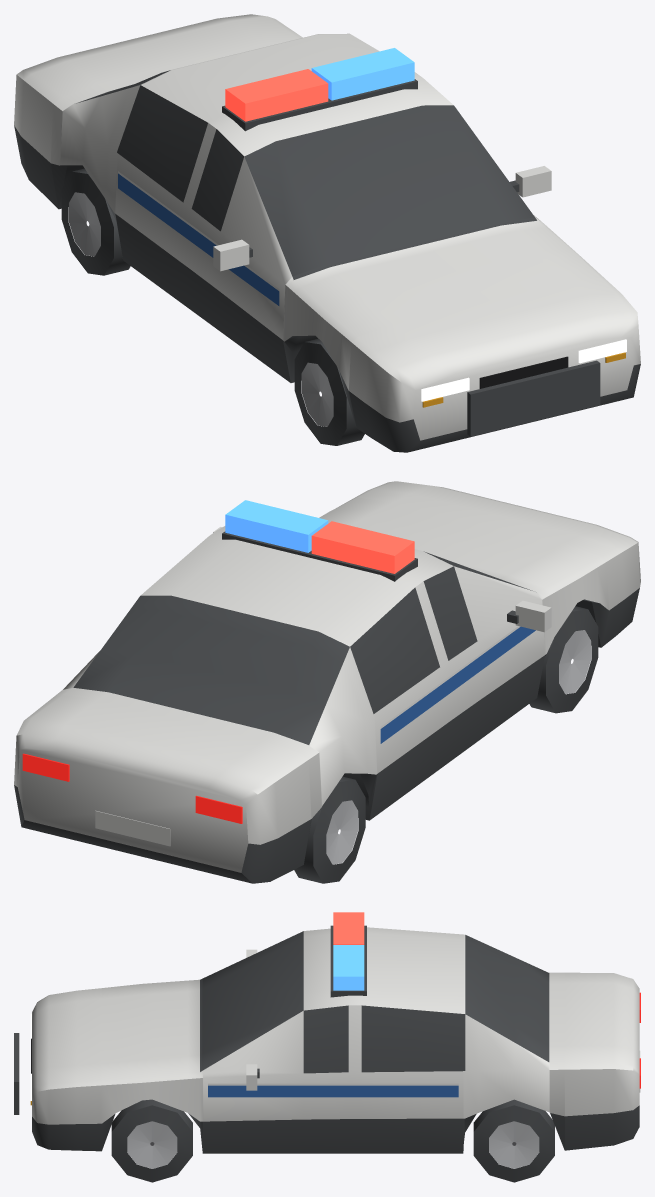
Rendered from police_lod1.glb.
3 views of the same model, one above another, from view 1: azimuth 30°, elevation 25°; view 2: azimuth 150°, elevation 25°; view 3: azimuth 270°, elevation 25° (orthographic). The views are drawn at different scales.
Parts seen in each view (by area): view 1: police_lod1; view 2: police_lod1; view 3: police_lod1.
Part boxes in pixels (x1,y1,x2,y2): police_lod1: (14,14,640,452); police_lod1: (14,481,640,883); police_lod1: (14,912,640,1182).
Size of the model in its own units: 0.115 by 0.0812 by 0.2425.
